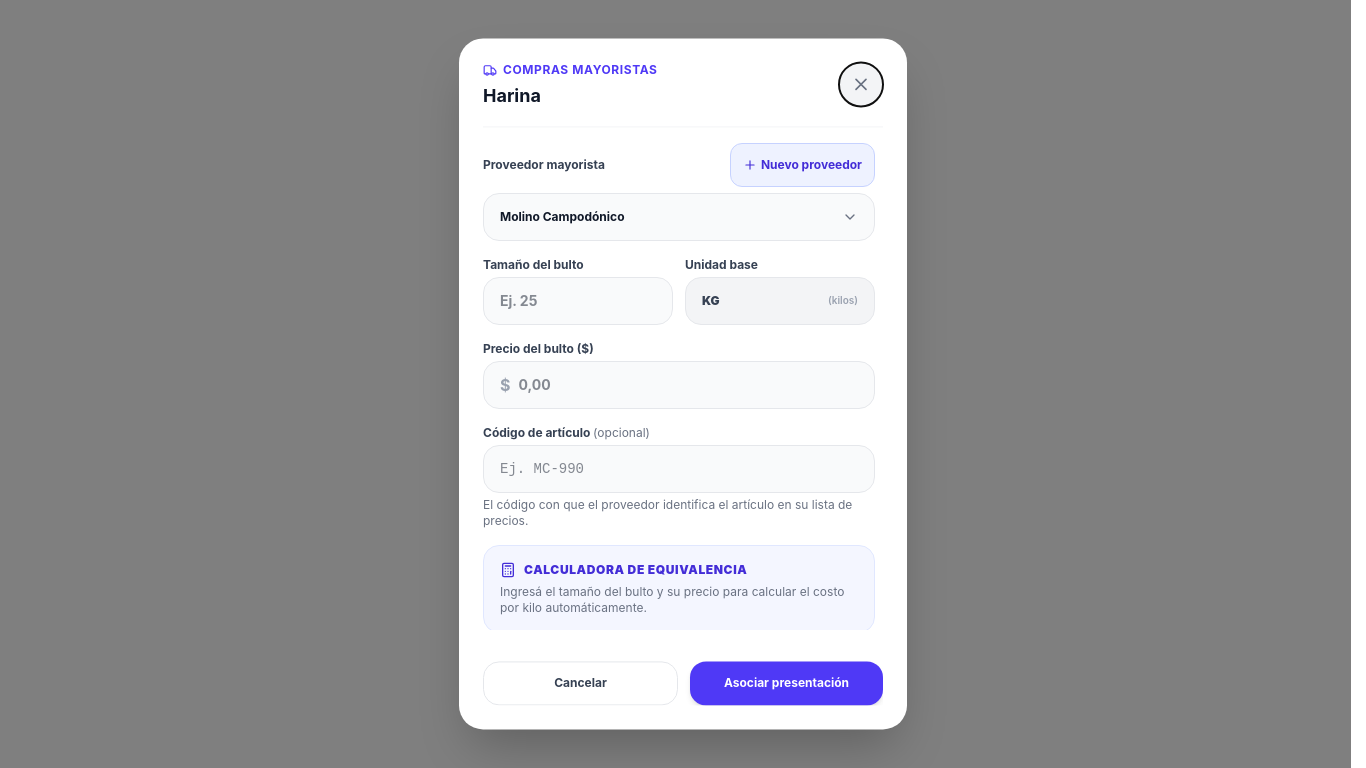
Test case: SupplierPackagingModal › retoques visuales (#362) › Escenario: el proveedor se elige en un desplegable con el estilo de MargenX, no en un select nativo
Later steps or results of the test are not shown.
Click the dropdown named "Proveedor mayorista" at [562, 217], box x1=483 y1=193 x2=875 y2=241
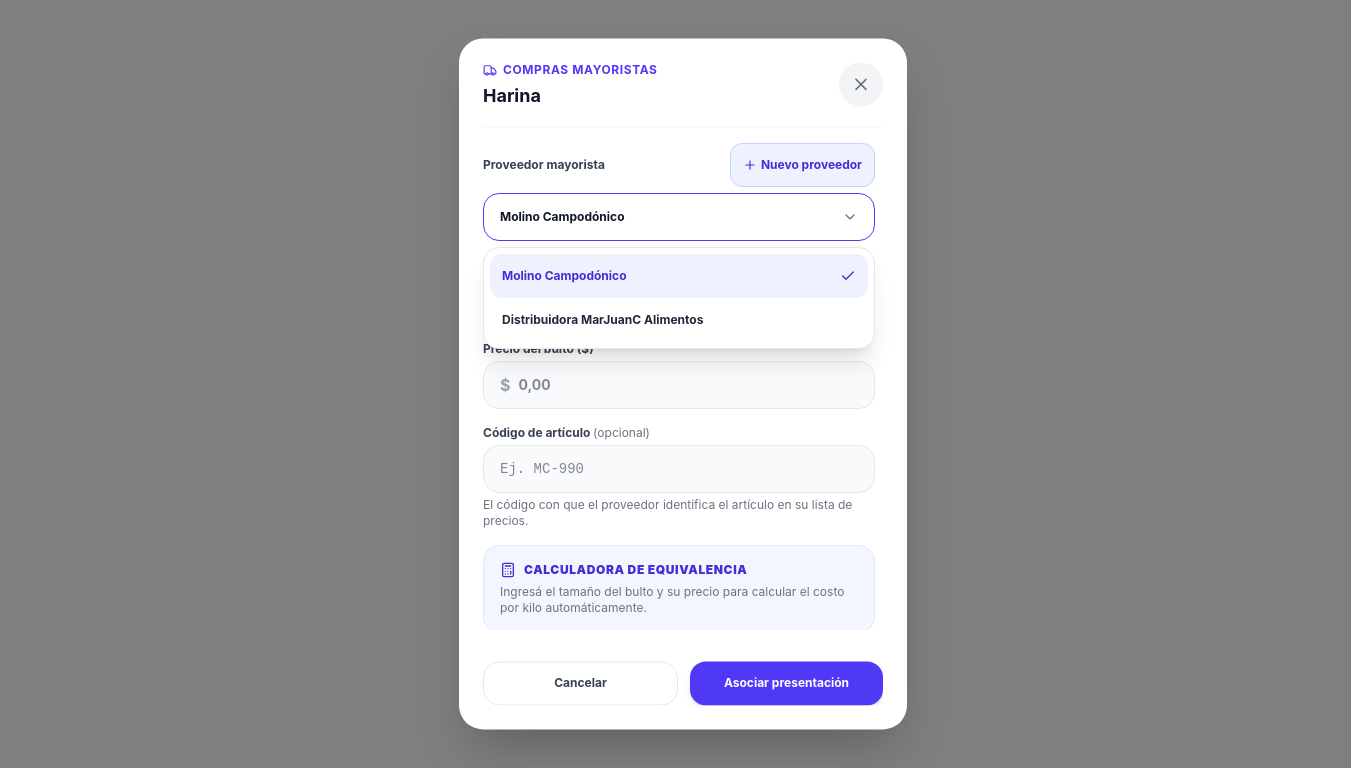
expect the options read "Molino Campodónico", "Distribuidora MarJuanC Alimentos", in this order: met
Click the option "Distribuidora MarJuanC Alimentos" at [603, 320], box x1=502 y1=312 x2=703 y2=327
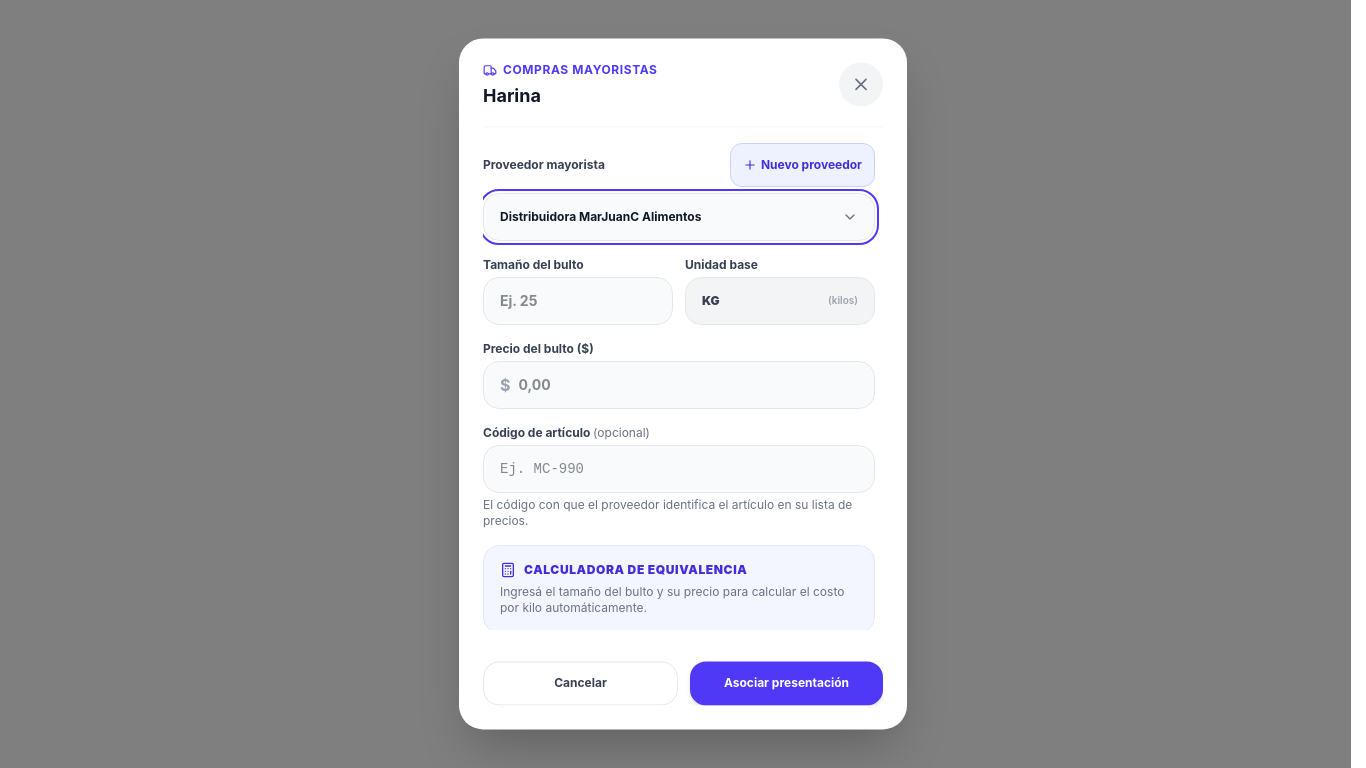
expect the dropdown named "Proveedor mayorista" reads "Distribuidora MarJuanC Alimentos": met, box x1=483 y1=193 x2=875 y2=241
